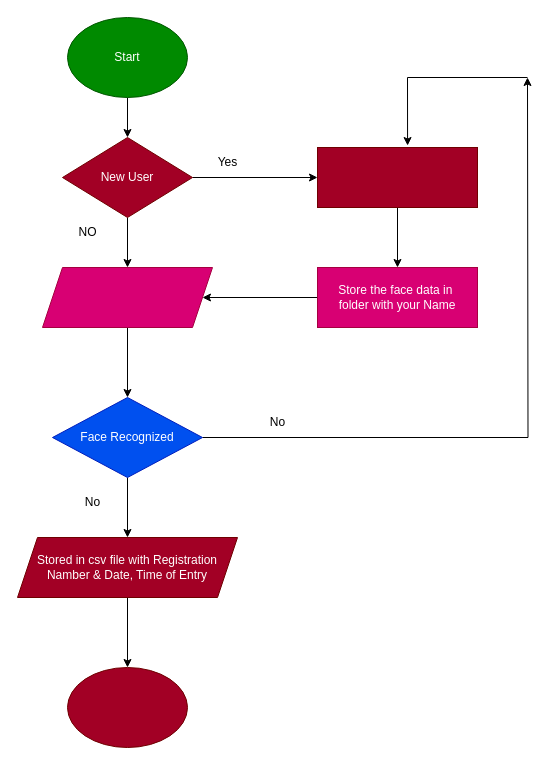
This 554x765 diagram has some shape labels left out. Here are the shapes that lost their labels. From the top down, the box of each, then its label:
(316, 146, 478, 208): Give Your Photograph
(42, 266, 212, 328): Recognize the Face
(66, 666, 188, 748): End
